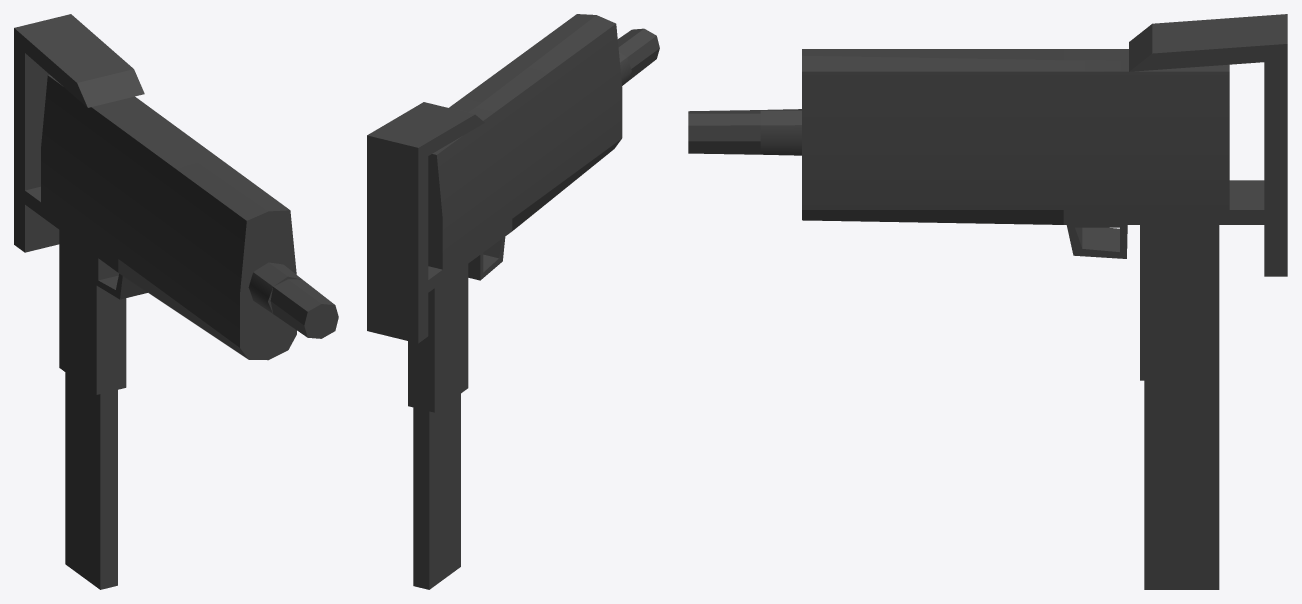
The model's file is MachinePistol.fbx.
The picture shows the model from 3 angles, left to right: view 1: azimuth 30°, elevation 25°; view 2: azimuth 150°, elevation 25°; view 3: azimuth 270°, elevation 25°; orthographic projection. The views are drawn at different scales.
Parts seen in each view (by area): view 1: MachinePistol2; view 2: MachinePistol2; view 3: MachinePistol2.
Boxes of the visible parts, bbox=[...] form: MachinePistol2: bbox=[14, 14, 338, 589]; MachinePistol2: bbox=[367, 14, 659, 589]; MachinePistol2: bbox=[688, 14, 1287, 589].
Size of the model in its own units: 23.28 by 202 by 197.
Materials: 1 (1 with a texture image).
